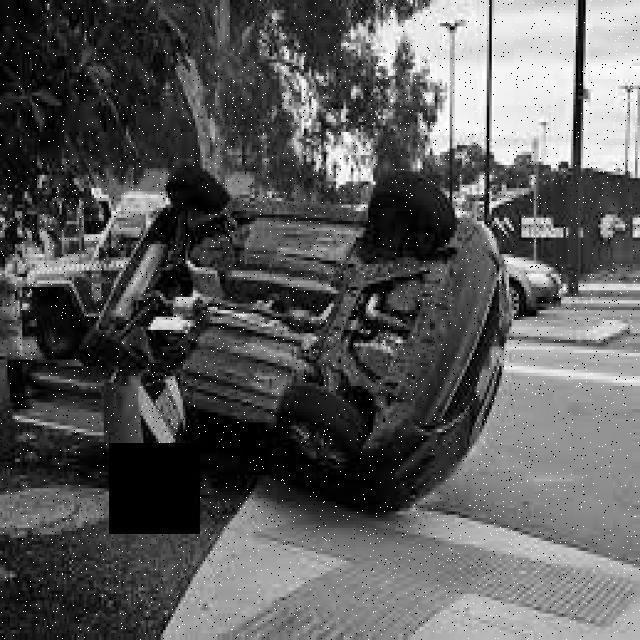accident: (80, 159, 518, 522)
vehicle: (23, 179, 178, 363), (502, 222, 568, 328)
